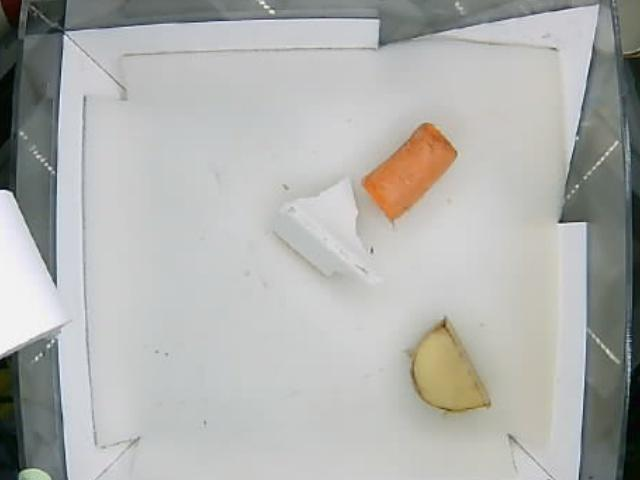Carrot: (366, 122, 459, 222)
China: (271, 176, 377, 285)
Potato: (412, 316, 496, 408)
